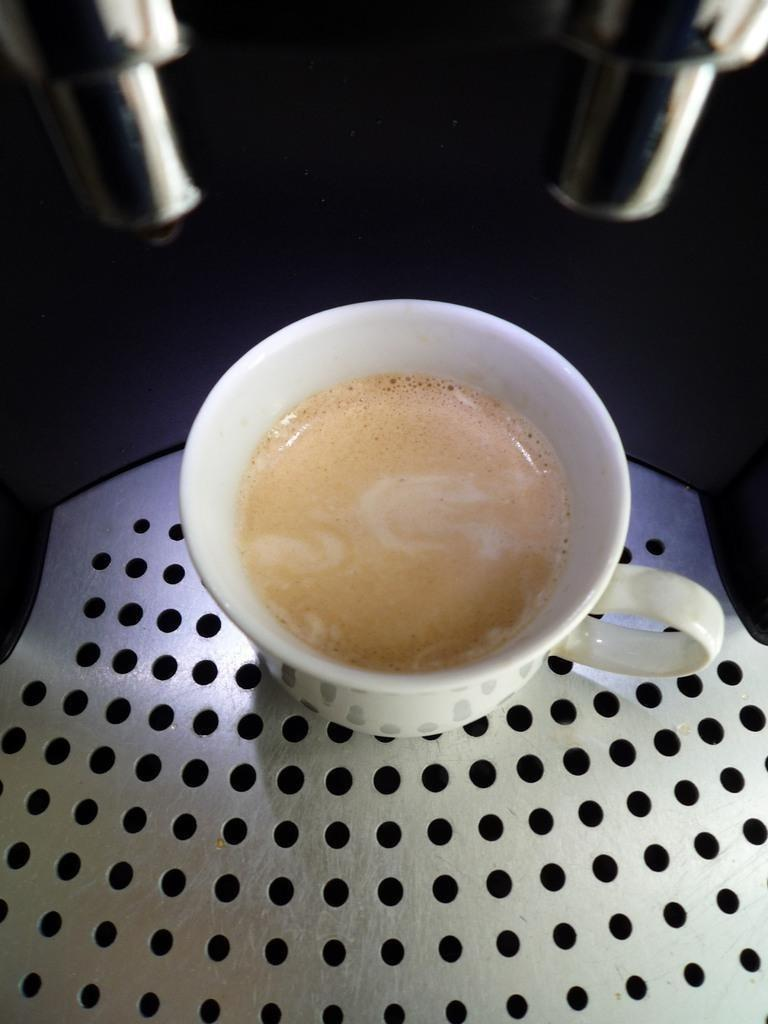cup-handle: (176, 299, 725, 741)
